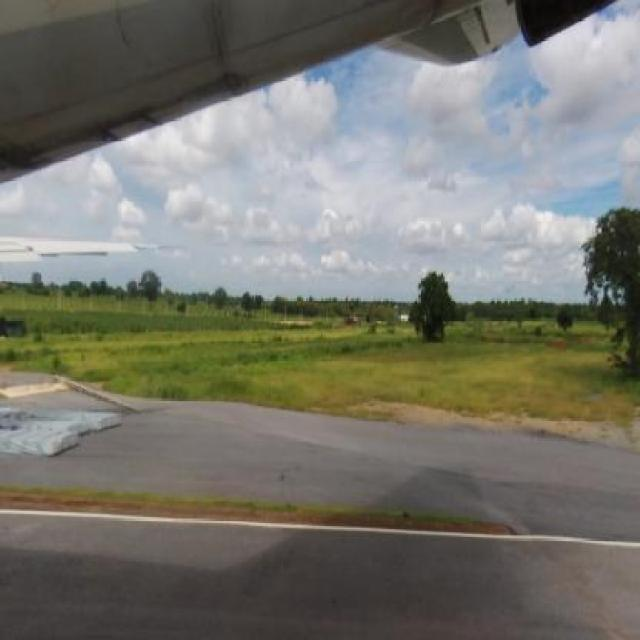Rust: (90, 72, 262, 140), (1, 117, 77, 178)
